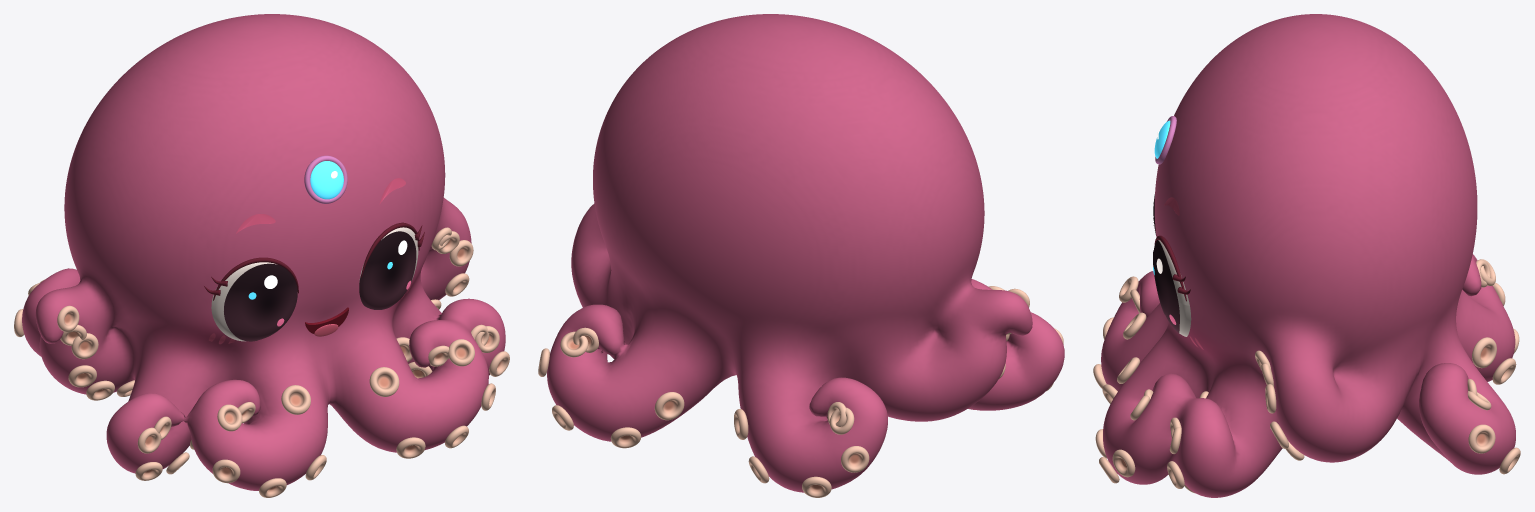
The model's file is pink-ai-octopus.glb.
3 renders of one model, left to right at view 1: azimuth 30°, elevation 25°; view 2: azimuth 150°, elevation 25°; view 3: azimuth 270°, elevation 25°, orthographic. The views are drawn at different scales.
Visible parts, largest first — view 1: HeadAndEightArms, Iris_-1, Pupil_-1, Iris_1, Pupil_1, AILight, EyeWhite_-1, Sucker_2_1, Sucker_1_1, AILightRing, Sucker_2_5, Sucker_1_5 (+2 smaller); view 2: HeadAndEightArms, Sucker_8_1, Sucker_7_4; view 3: HeadAndEightArms, Iris_1, EyeWhite_1, Sucker_8_4, Sucker_7_1, Pupil_1, Sucker_2_4.
Part boxes in pixels (x1,y1,x2,y2): HeadAndEightArms: (22,14,505,490); Iris_-1: (224,263,297,341); Pupil_-1: (241,274,291,329); Iris_1: (359,231,416,309); Pupil_1: (371,242,409,299); AILight: (310,161,343,199); EyeWhite_-1: (211,262,276,341); Sucker_2_1: (369,367,399,396); Sucker_1_1: (281,385,310,414); AILightRing: (304,155,347,203); Sucker_2_5: (448,339,474,366); Sucker_1_5: (217,404,242,431); HeadAndEightArms: (547,14,1064,492); Sucker_8_1: (654,392,684,420); Sucker_7_4: (841,446,869,472); HeadAndEightArms: (1101,14,1515,497); Iris_1: (1154,240,1179,333); EyeWhite_1: (1158,240,1191,336); Sucker_8_4: (1468,424,1495,453); Sucker_7_1: (1472,337,1496,368); Pupil_1: (1153,250,1167,314); Sucker_2_4: (1112,449,1135,477).
Bounding box in the file's own units: 3.04 × 2.54 × 2.46.
